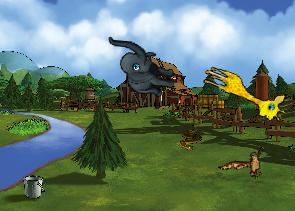eagle: (217, 135, 276, 193)
elephant: (104, 36, 178, 97)
giraffe: (196, 63, 291, 125)
